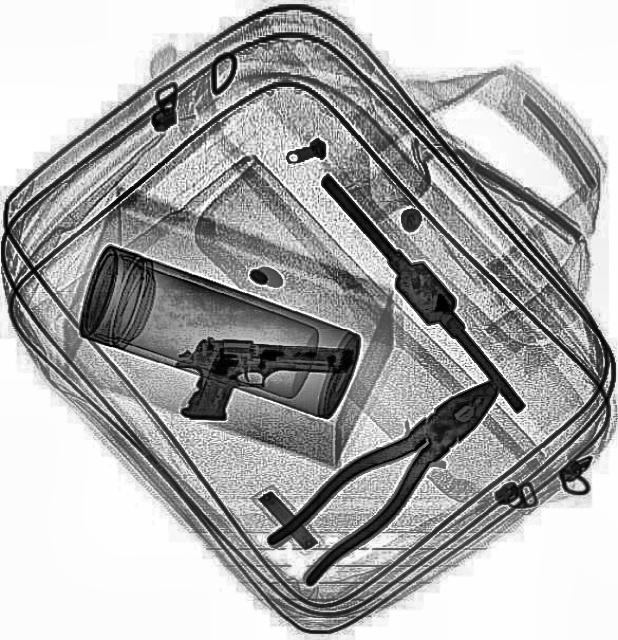Gun: (168, 335, 356, 429)
Pliers: (260, 354, 524, 588)
